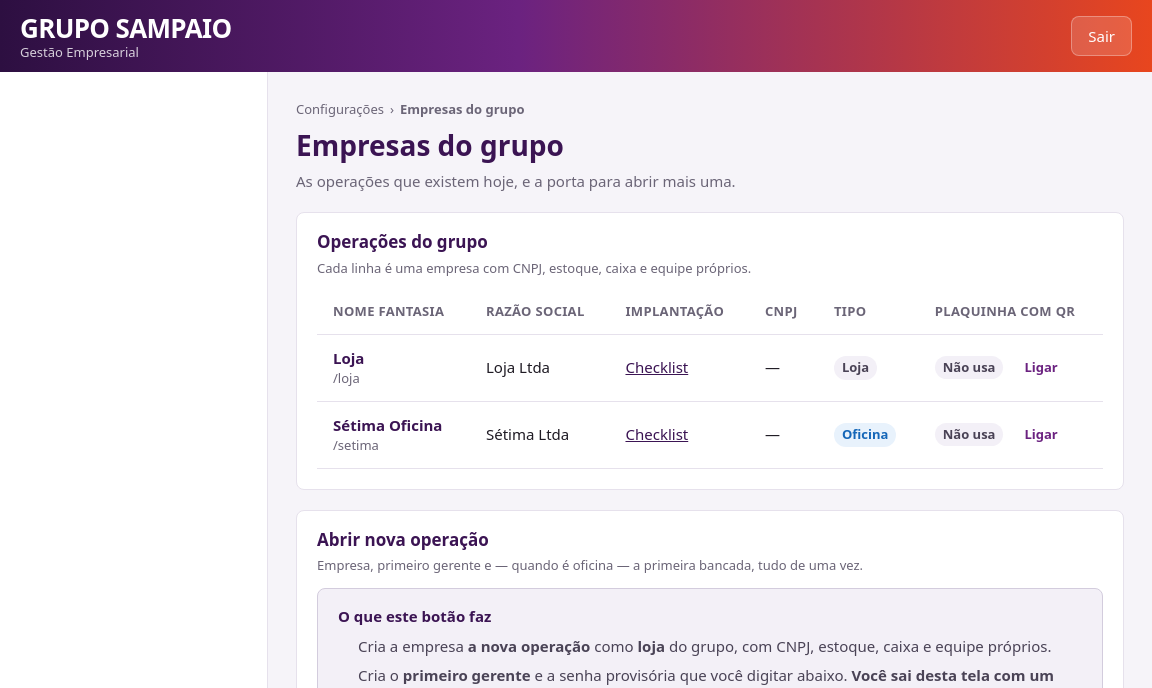
Test case: GAP-PRD-185 — a plaquinha da operação pela tela de Empresas › a lista mostra quem usa e liga a plaquinha da sétima oficina
Click the button with aria-label "Ligar plaquinha de Sétima Oficina": (1041, 435) 1012,418 -> 1071,451
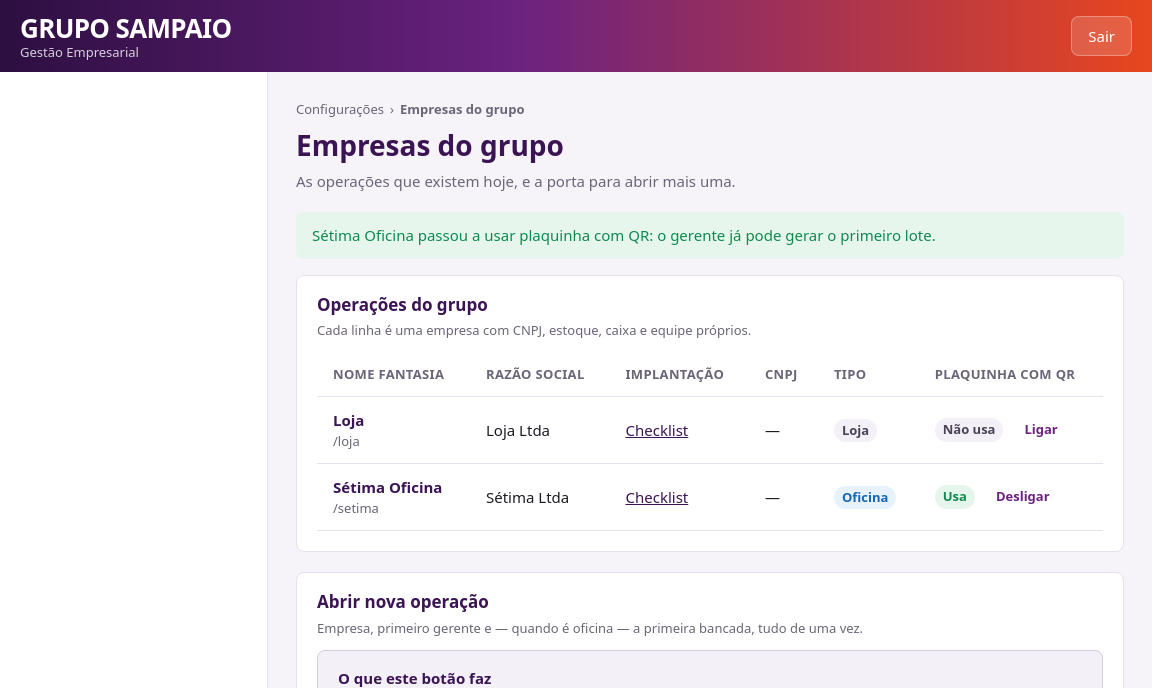
Expected: the text "Sétima Oficina passou a usar plaquinha com QR" is shown, 312,225 -> 936,245
Expected: the button with aria-label "Desligar plaquinha de Sétima Oficina" is shown, 983,480 -> 1063,514
